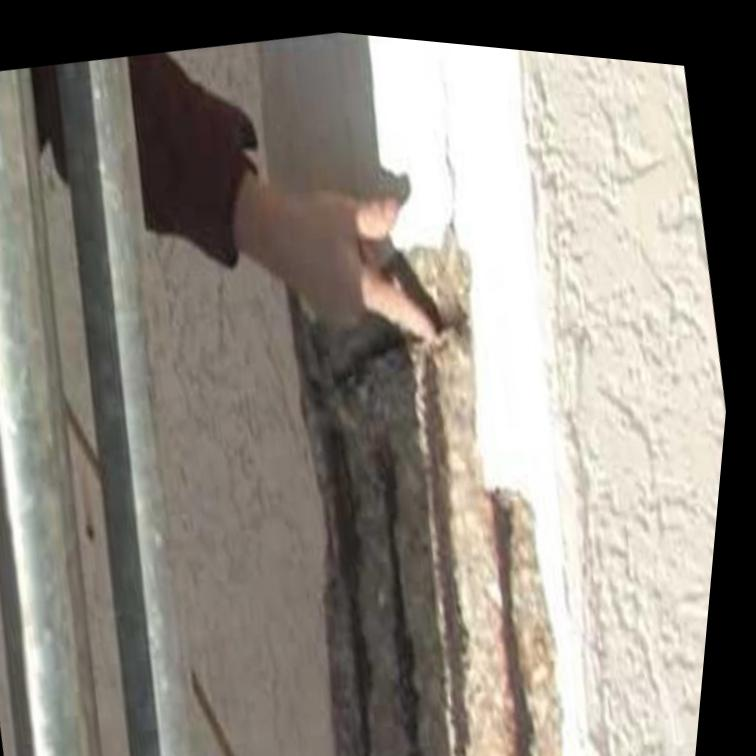damage: (299, 235, 577, 756)
